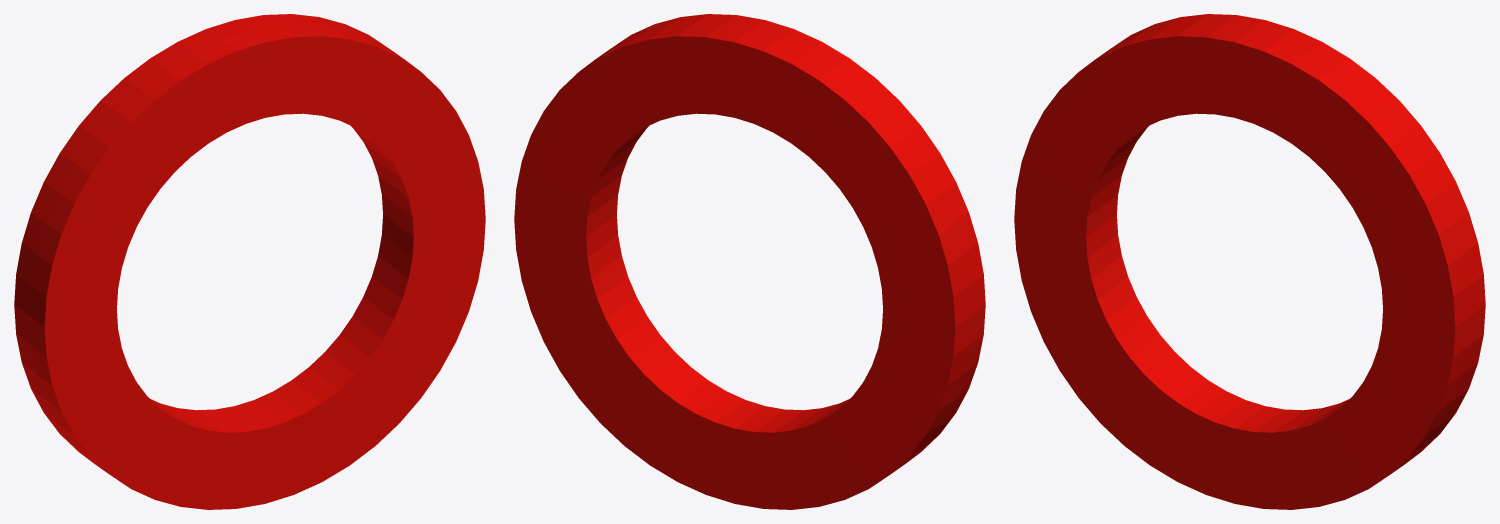
3 views of the same model, side by side, from view 1: azimuth 30°, elevation 25°; view 2: azimuth 150°, elevation 25°; view 3: azimuth 330°, elevation 25° (orthographic).
Parts seen in each view (by area): view 1: L11_Circle; view 2: L11_Circle; view 3: L11_Circle.
Part boxes in pixels (box(x1,y1,x2,y2)): L11_Circle: box(14, 14, 485, 509); L11_Circle: box(514, 14, 985, 509); L11_Circle: box(1014, 14, 1485, 509).
Size of the model in its own units: 767 by 767 by 92.39.
